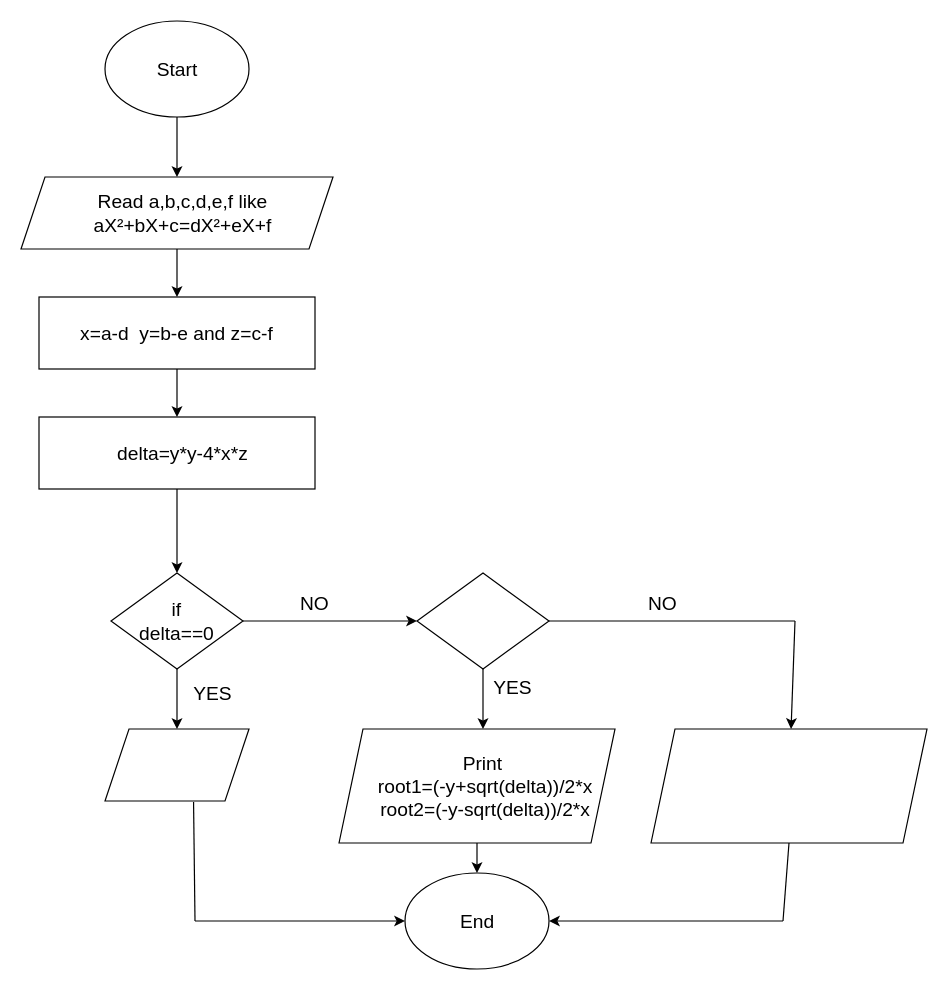
This 948x990 diagram has some shape labels left out. Here are the shapes that lost their labels. From the top down, the centre of each, then its label:
At point (482, 620): "if delta>0".
At point (176, 764): "Print root=-y/2*x".
At point (788, 785): "Print root1=(-y+i*sqrt(-delta))/2*x root2=(-y-i*sqrt(-delta))/2*x".
